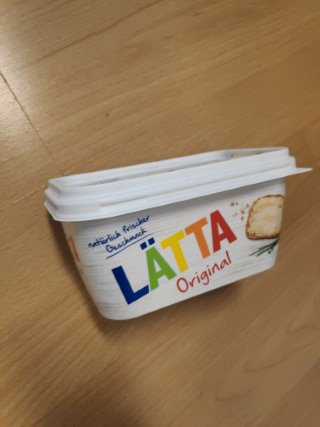laetta: (44, 145, 319, 320)
